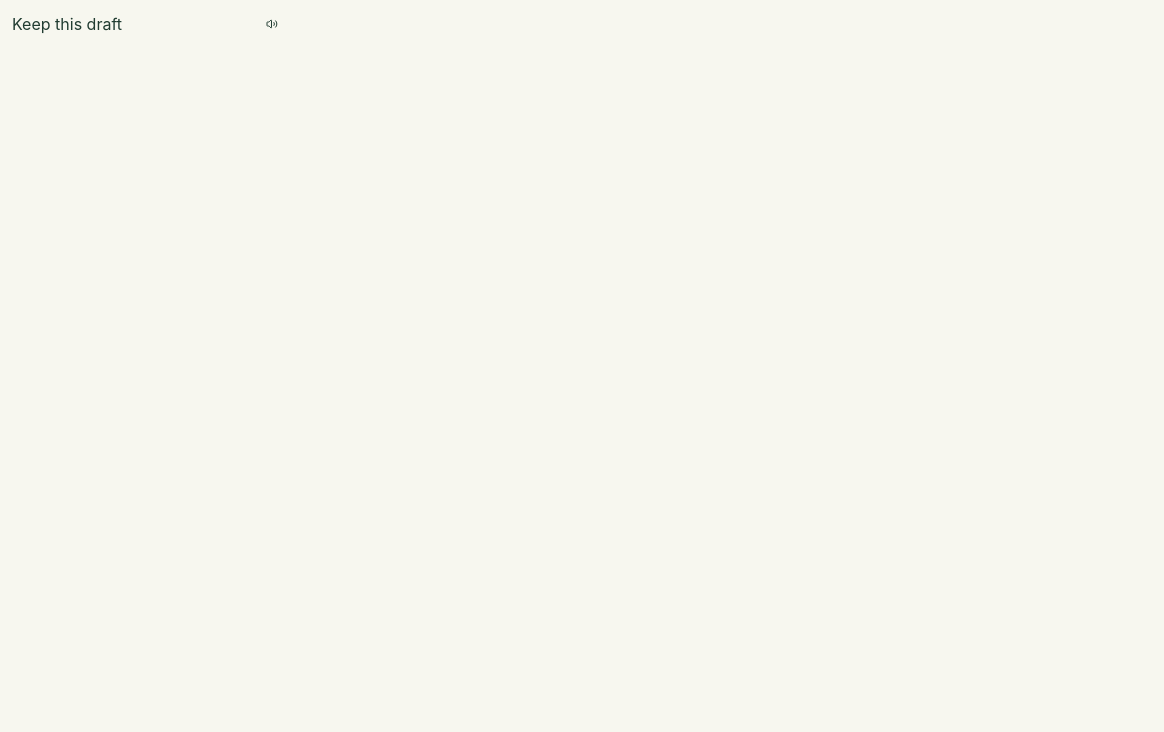
Test: read aloud pauses, resumes, and stops local playback and releases audio
The image size is (1164, 732).
Later steps or results of the test are not shown.
Click the button named "Read aloud on this Mac" at (272,24), box [260,12,284,36]
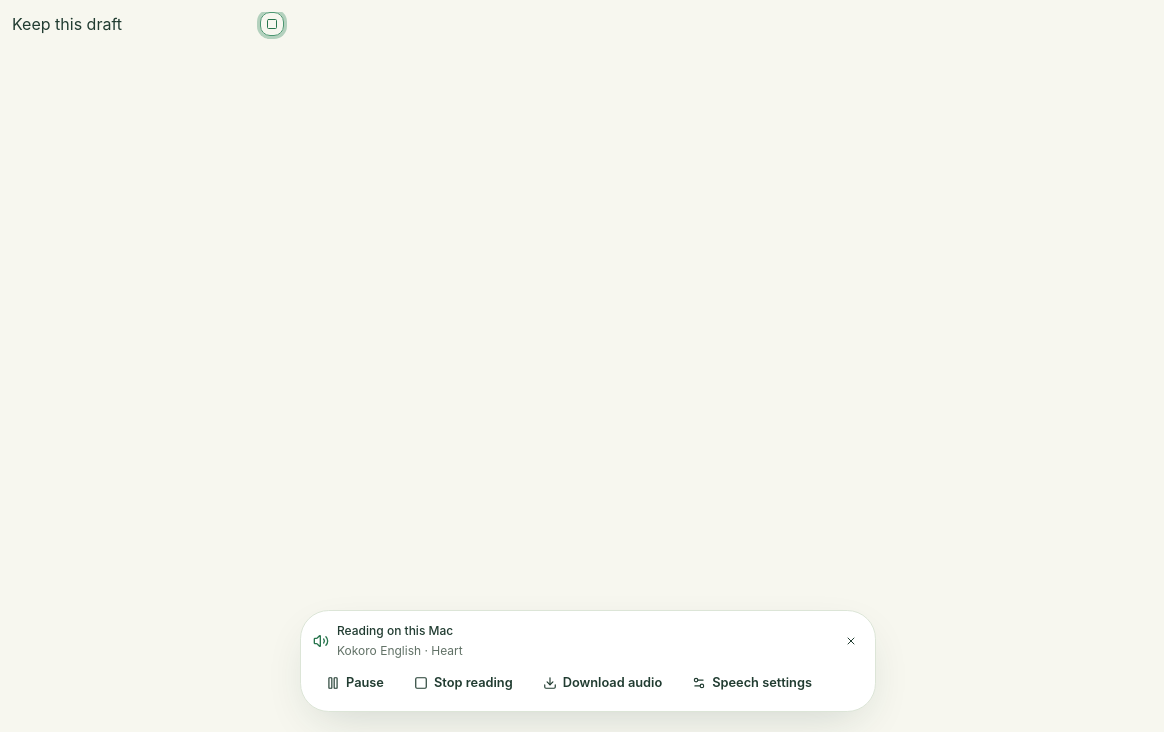
Now the text "Reading on this Mac" is shown, box [337,623,453,638]
Click the button "Pause" at (355,683), box [313,667,397,699]
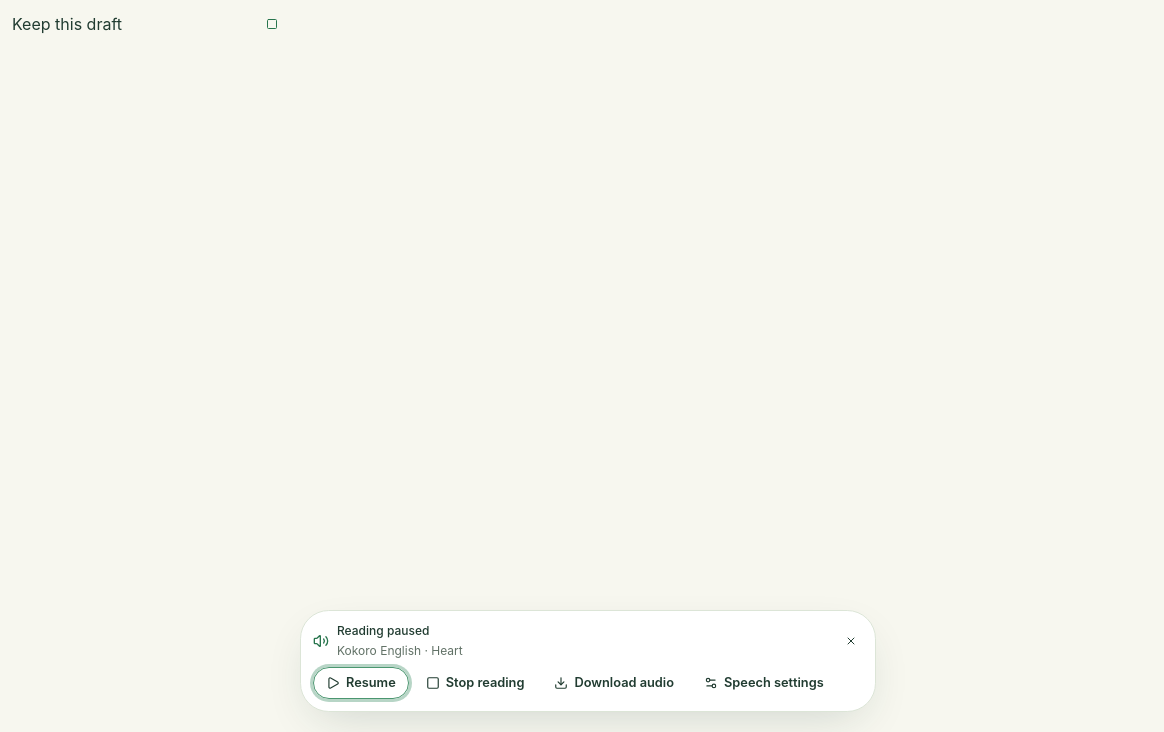
Click the button "Resume" at (361,683), box [313,667,409,699]
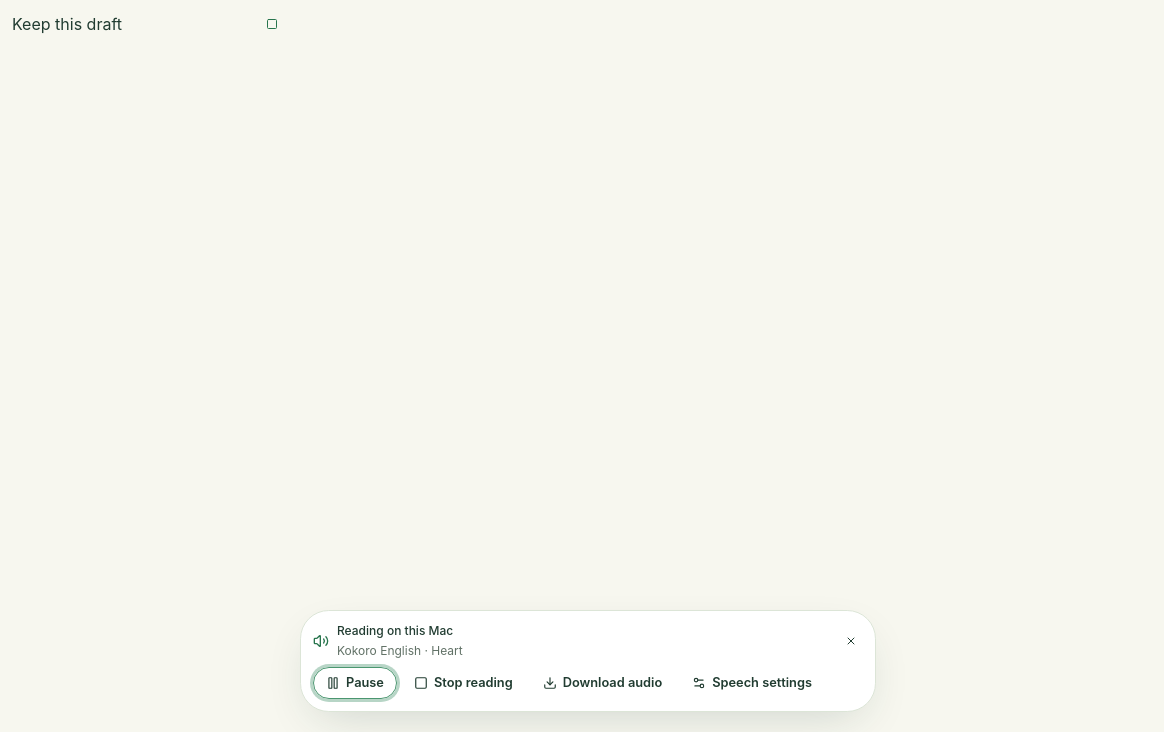
Now the text "Reading on this Mac" is shown, box [337,623,453,638]
